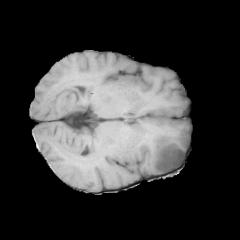glioma: (149, 134, 185, 173)
